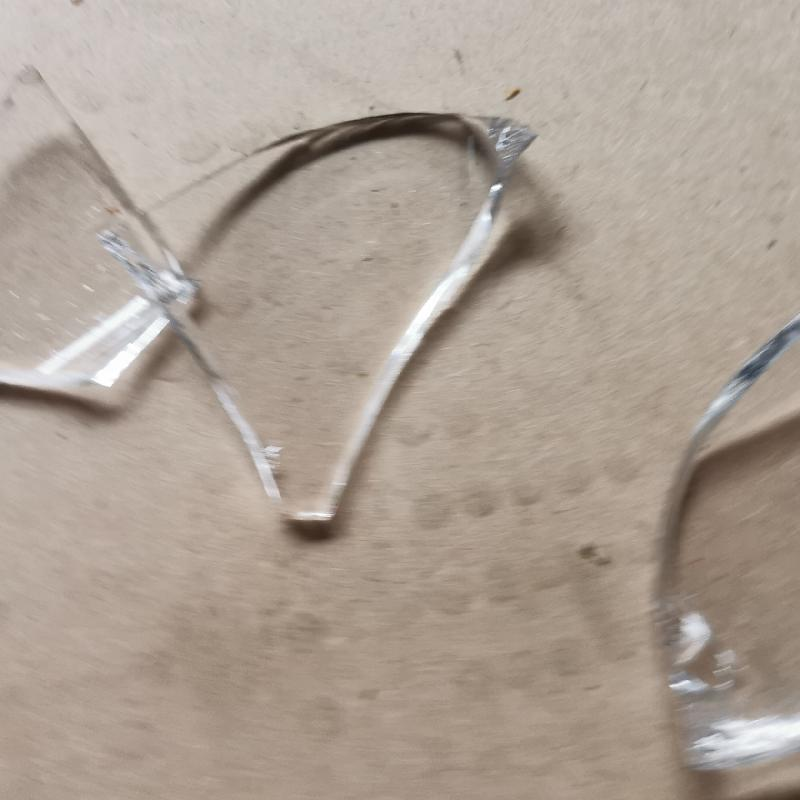glass: (11, 58, 534, 551), (645, 304, 799, 784)
